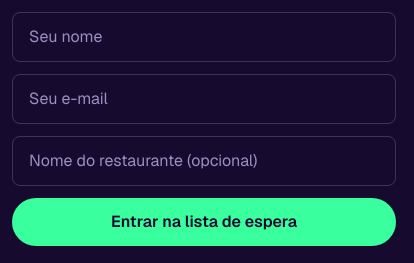
Scenario: ListaEsperaForm › envia nome, e-mail e nome do restaurante, mostra confirmação em caso de sucesso
Type "Dono do Restaurante" into the field with placeholder "Seu nome" at x=204, y=37, box [12, 12, 396, 62]
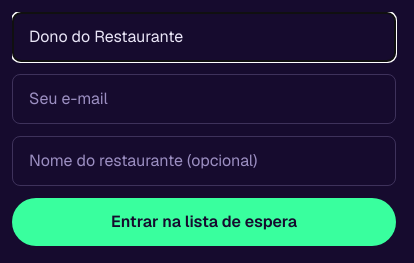
Type "dono@exemplo.com" into the field with placeholder "Seu e-mail" at x=204, y=99, box [12, 74, 396, 124]
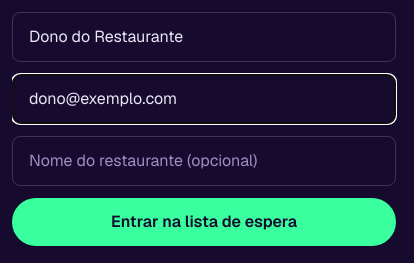
Type "Aurora Burger" into the field with placeholder "Nome do restaurante (opcional)" at x=204, y=161, box [12, 136, 396, 186]
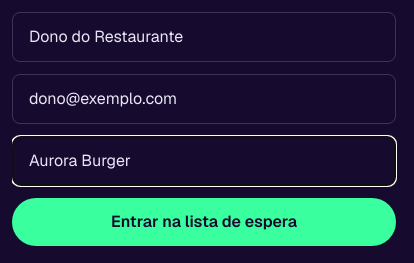
Click the button "Entrar na lista de espera" at x=204, y=222, box [12, 198, 396, 246]
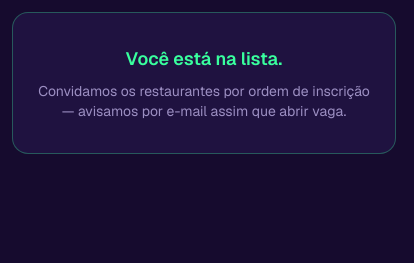
expect the text "Você está na lista." is shown: met, box [126, 45, 282, 73]
